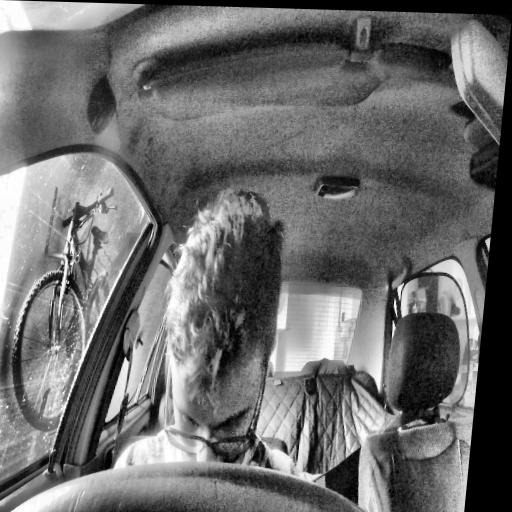drowsy: (152, 187, 294, 479)
